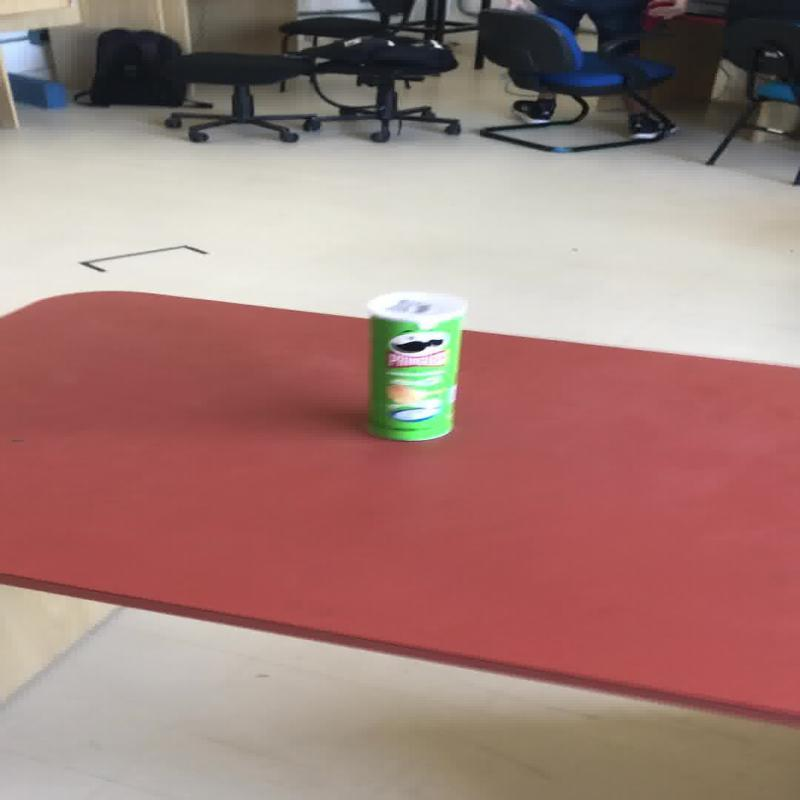pringles: (364, 290, 467, 441)
